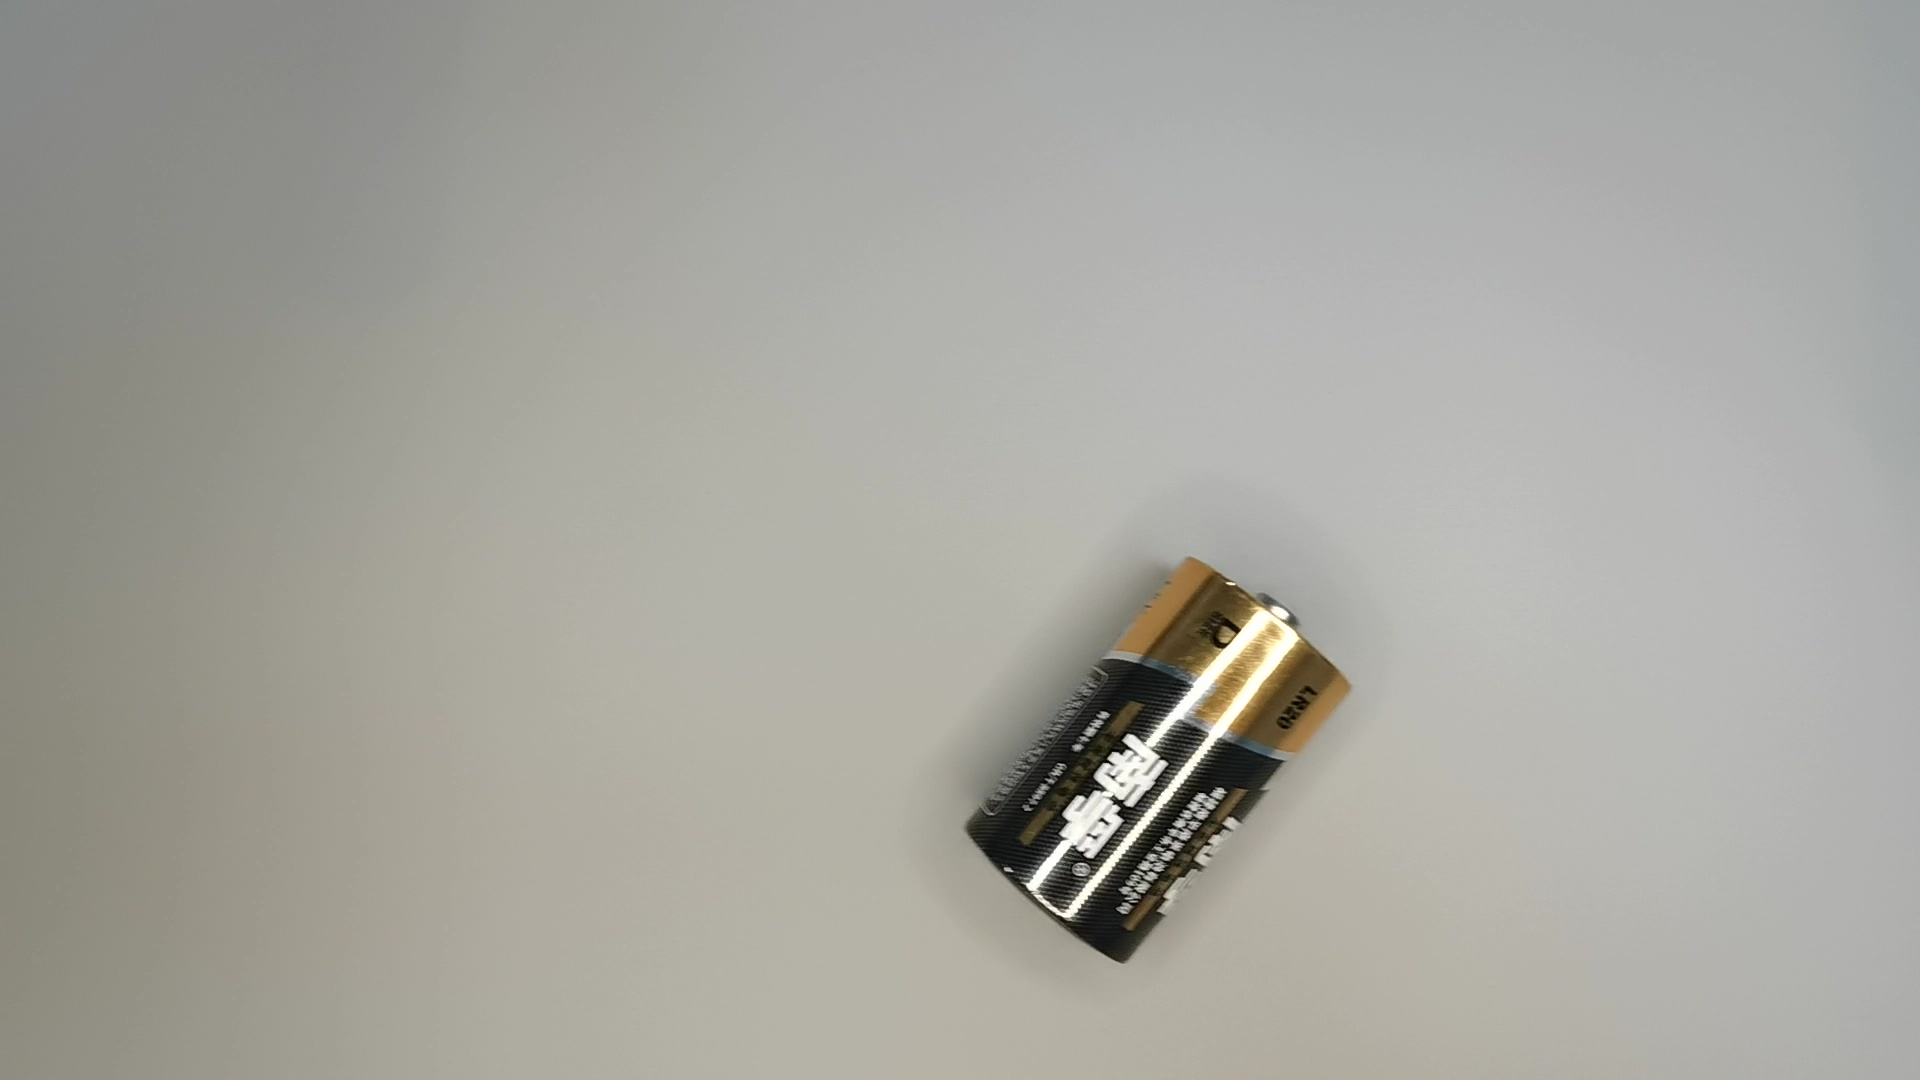battery: (956, 554, 1366, 971)
